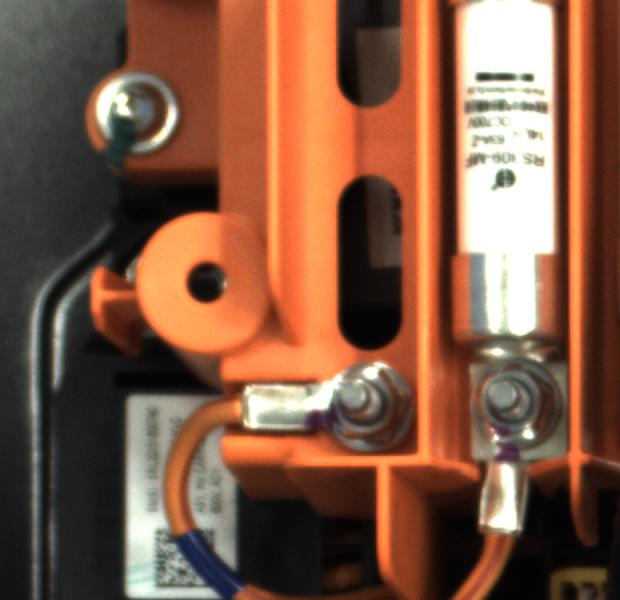screw_m: (92, 67, 187, 162)
screw_s: (311, 353, 414, 449), (466, 357, 576, 446)
